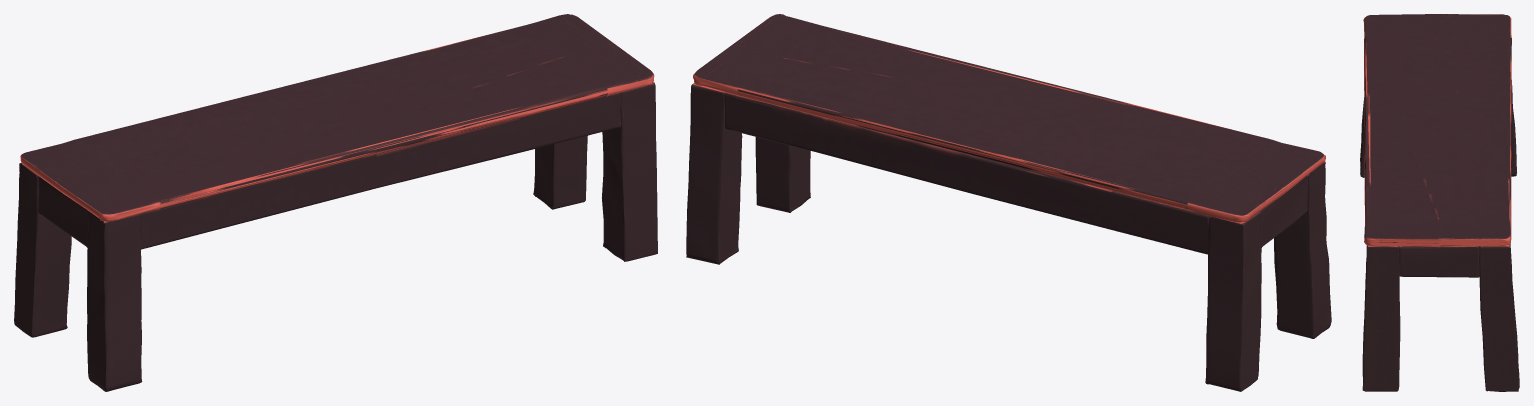
The model's file is furniture.glb.
3 views of the same model, side by side, from view 1: azimuth 30°, elevation 25°; view 2: azimuth 150°, elevation 25°; view 3: azimuth 270°, elevation 25° (orthographic). The views are drawn at different scales.
Size of the model in its own units: 1 by 0.3145 by 0.293.
Materials: 1 (1 with a texture image).
